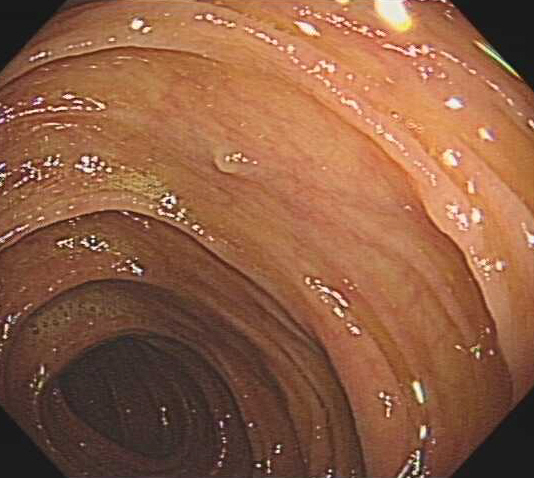others: (204, 141, 259, 176)
